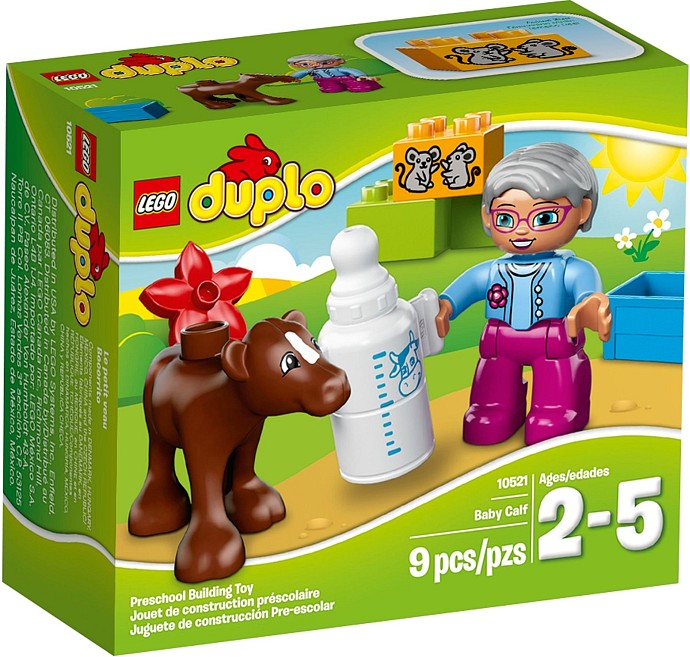LEGO: (127, 165, 192, 240), (67, 114, 106, 191), (36, 59, 107, 89)
